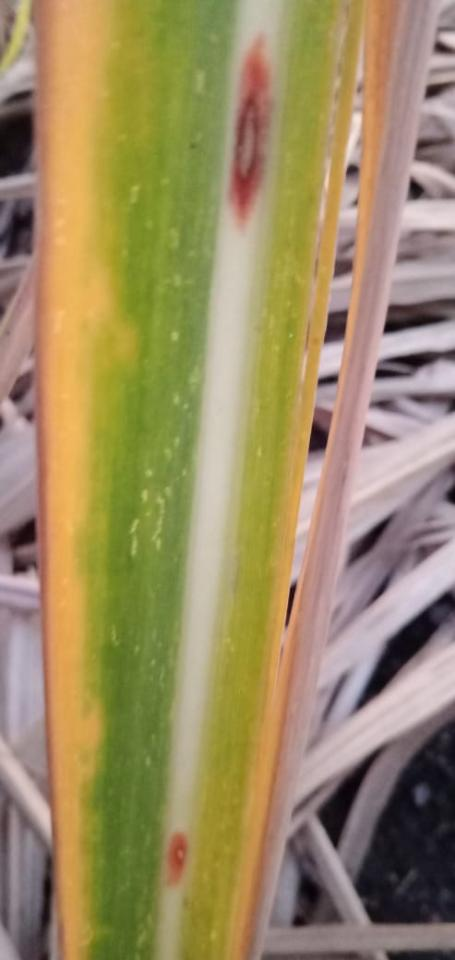RedRot: (222, 19, 277, 231), (166, 826, 190, 890)
Yellow: (227, 0, 399, 959), (45, 0, 146, 959)
